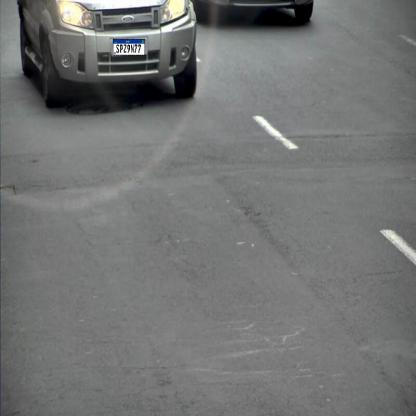PlacaM: (113, 39, 145, 55)
